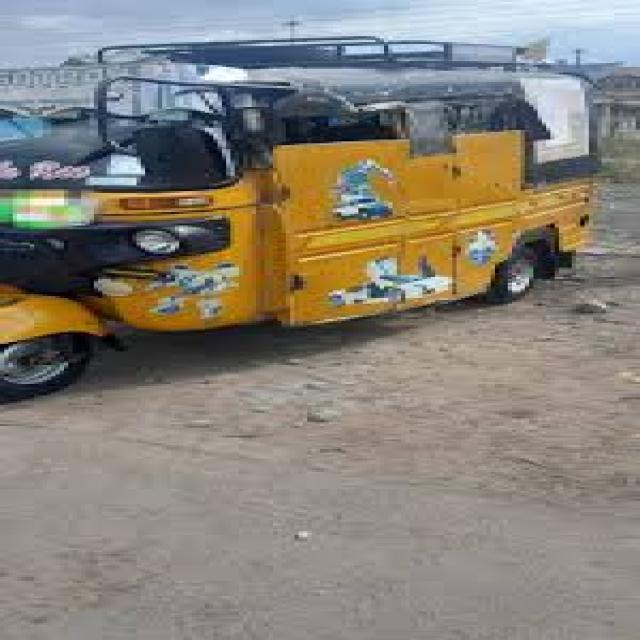tuktuk: (4, 5, 636, 412)
